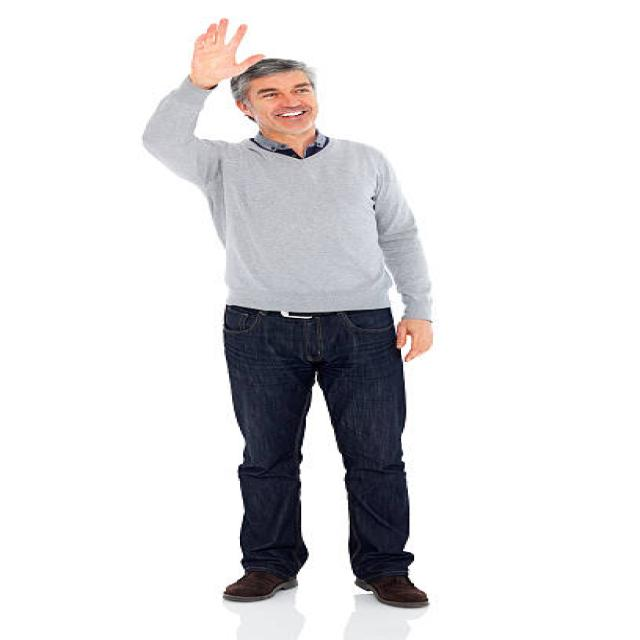Edited images: (128, 14, 479, 620)
